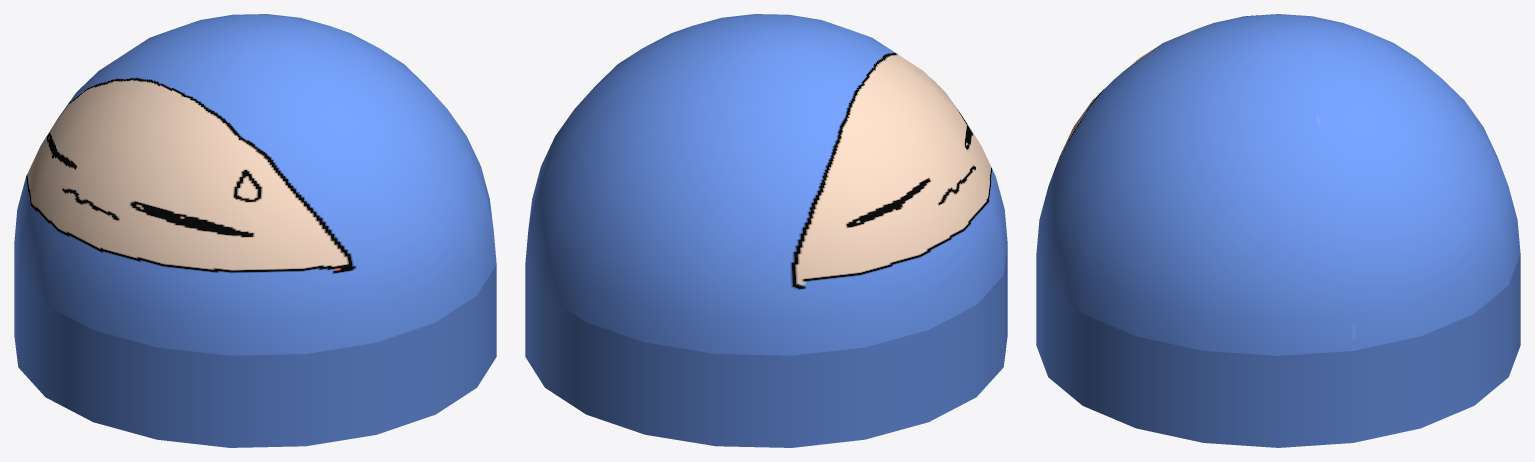
The model's file is syobonnHead.fbx.
3 renders of one model, left to right at view 1: azimuth 30°, elevation 25°; view 2: azimuth 150°, elevation 25°; view 3: azimuth 270°, elevation 25°, orthographic.
Visible parts, largest first — view 1: pSphere1, pCylinder1; view 2: pSphere1, pCylinder1; view 3: pSphere1, pCylinder1.
Part boxes in pixels (x1,y1,x2,y2): pSphere1: [14, 14, 496, 355]; pCylinder1: [14, 245, 496, 447]; pSphere1: [525, 14, 1007, 355]; pCylinder1: [525, 245, 1007, 447]; pSphere1: [1036, 14, 1520, 355]; pCylinder1: [1036, 254, 1520, 447].
Size of the model in its own units: 2 by 1.41 by 2.
Materials: 2 (1 with a texture image).
